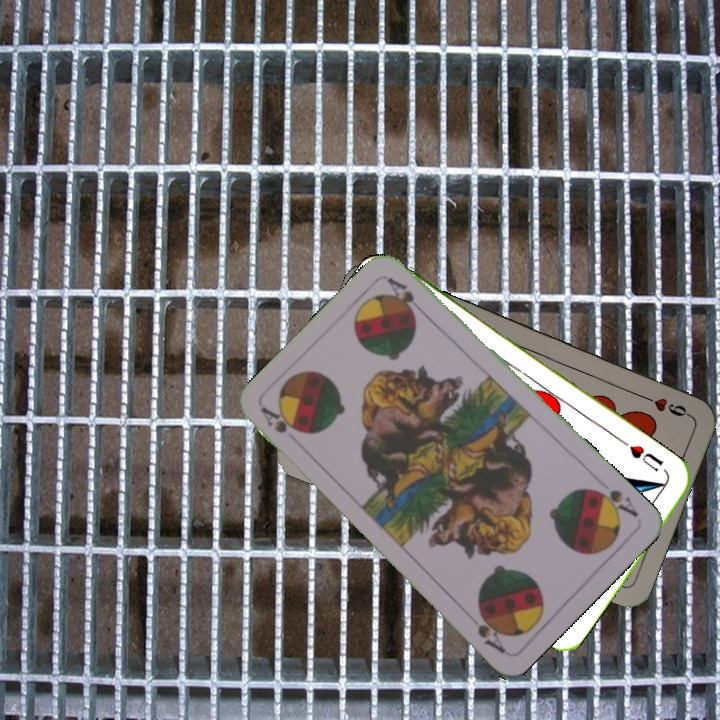H9: (636, 390, 693, 419)
HU: (625, 441, 666, 474)
SA: (587, 484, 641, 520), (257, 403, 300, 436)
